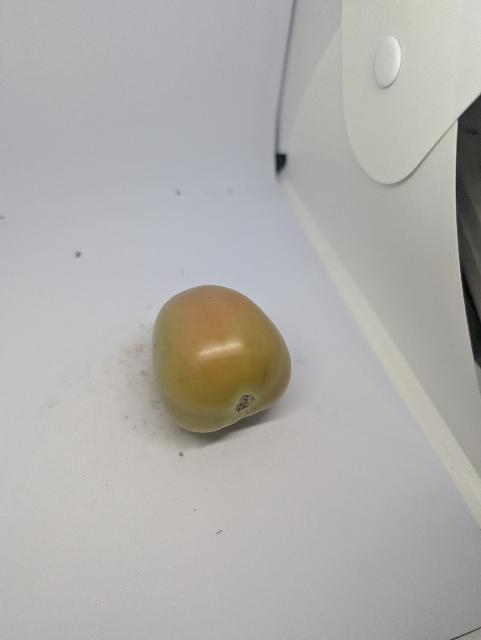breaker: (145, 280, 292, 440)
